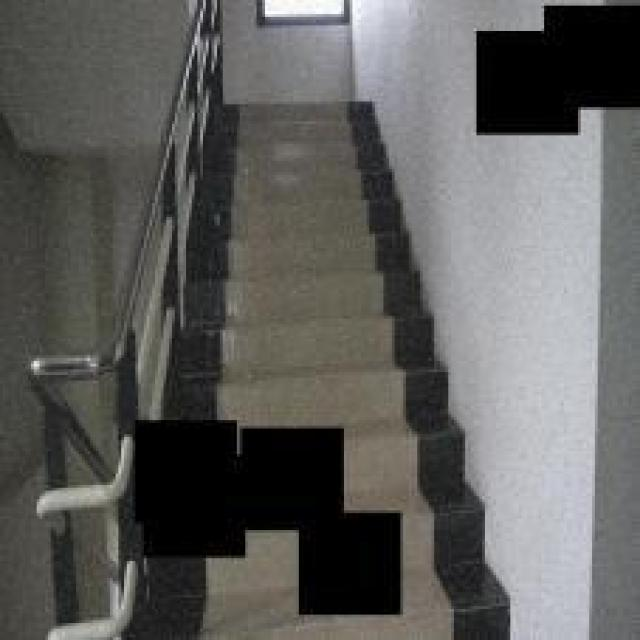upstair: (165, 89, 452, 405)
